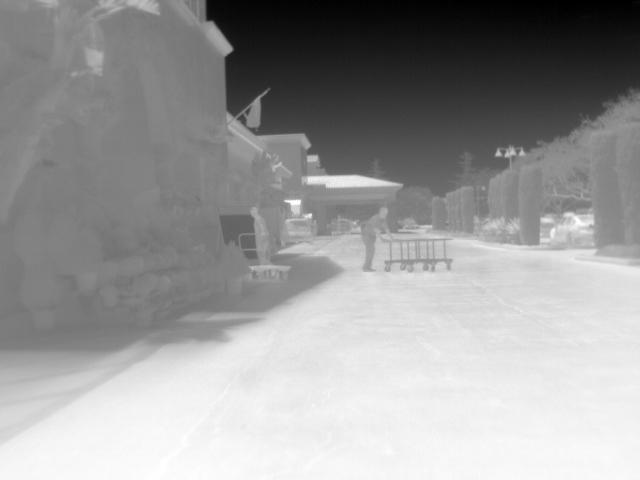car: (551, 214, 594, 248), (281, 217, 314, 243), (330, 220, 352, 234), (400, 216, 419, 228)
person: (359, 206, 394, 271), (250, 206, 272, 264)
